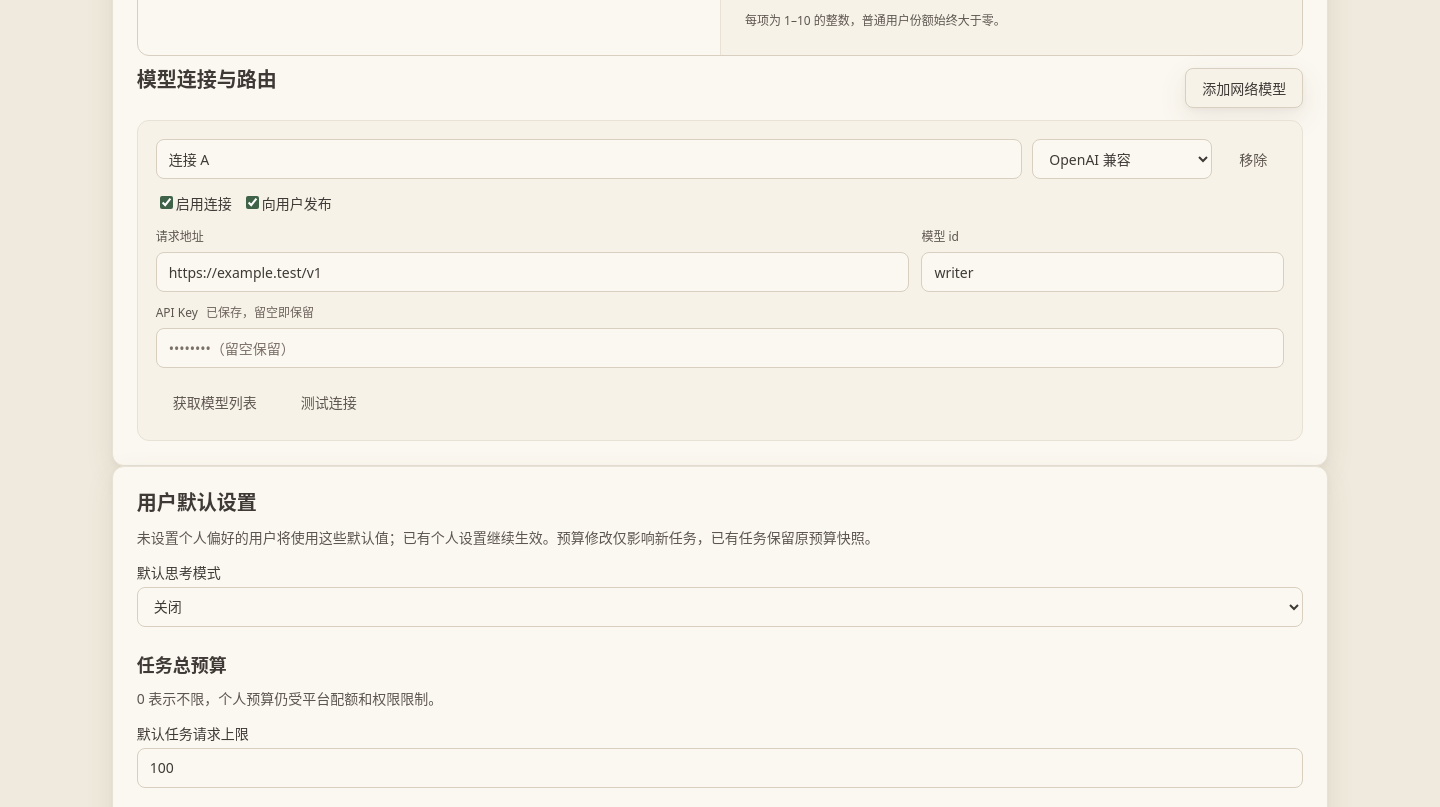
it: reports test failures visibly without resubmitting on close
The width and height of the screenshot is (1440, 807).
(page scrolled)
Expected: the field showing "连接 A" is shown, [156,139,1022,179]
Click the button "测试连接". click: (329, 402)
box: [284,382,374,422]
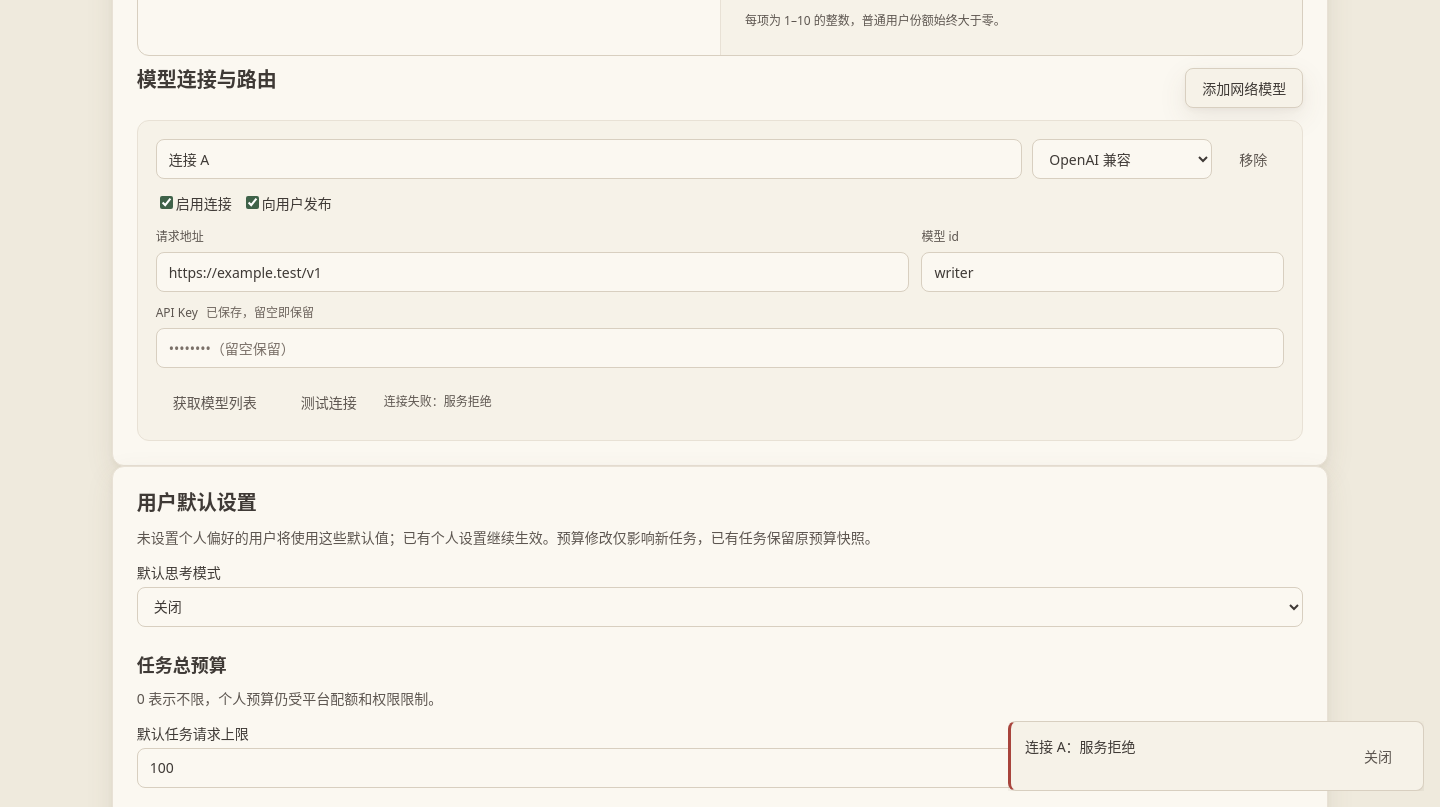
Expected: the message shows "服务拒绝", [1025,737,1136,756]
Click the button with aria-label "关闭通知". click: (1378, 756)
box: [1347,736,1409,776]
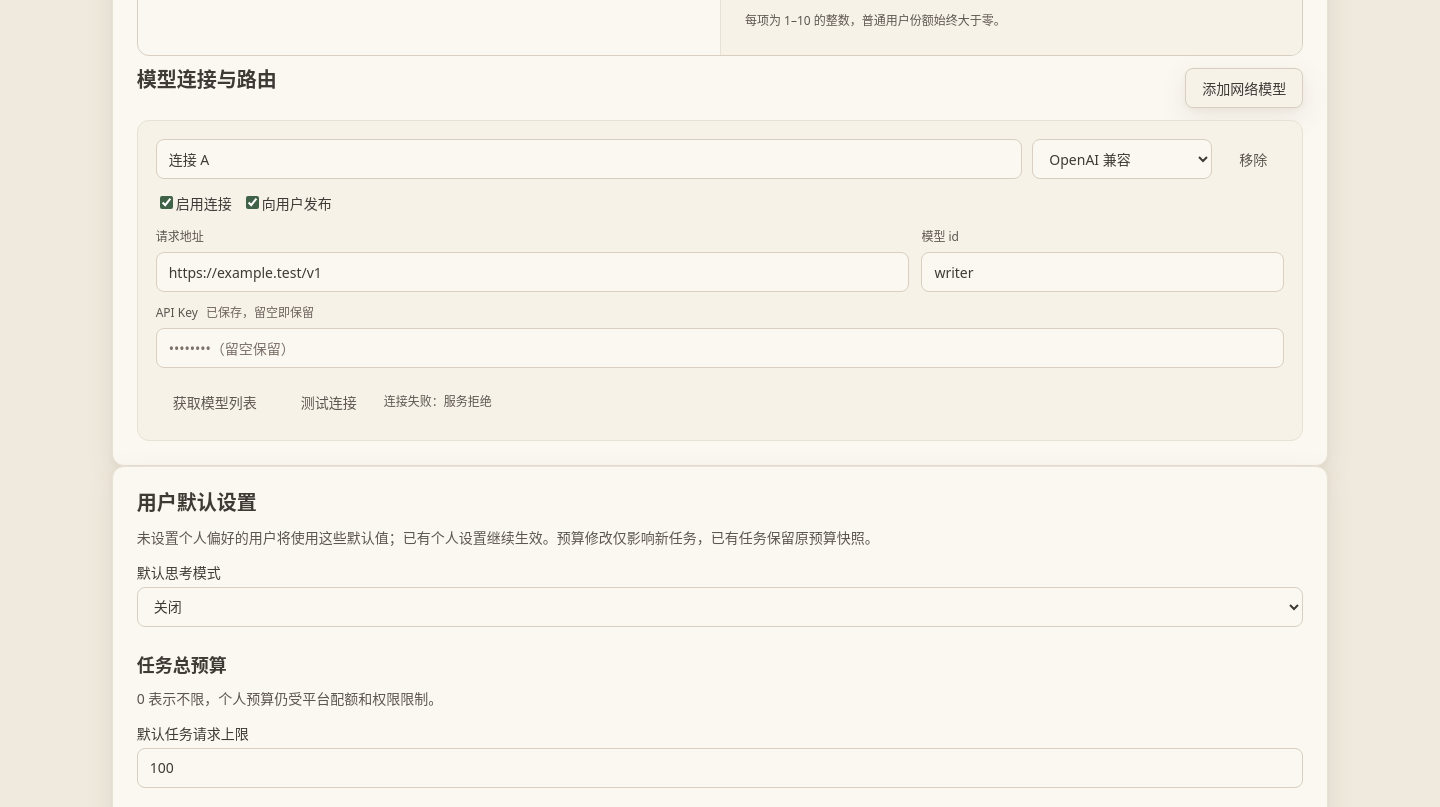
Expected: the message "连接 A：服务拒绝" is gone
